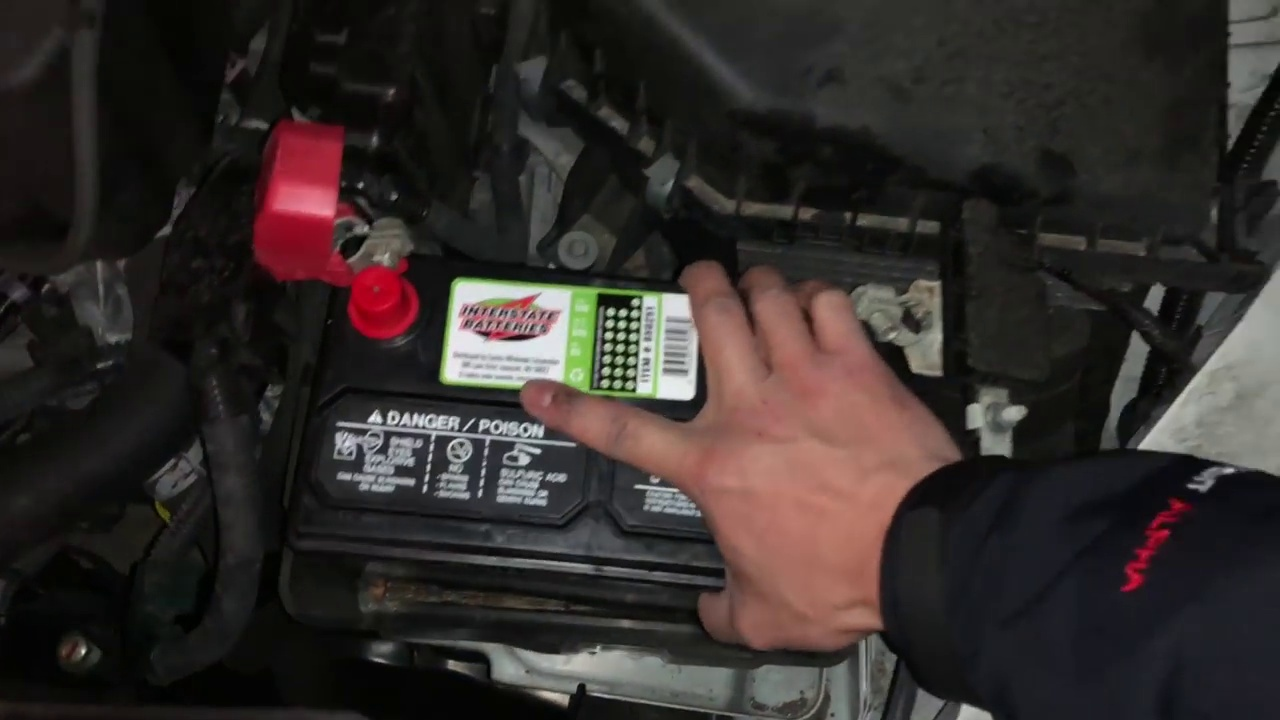battery: (301, 240, 924, 614)
pos_disconnected: (248, 135, 437, 345)
